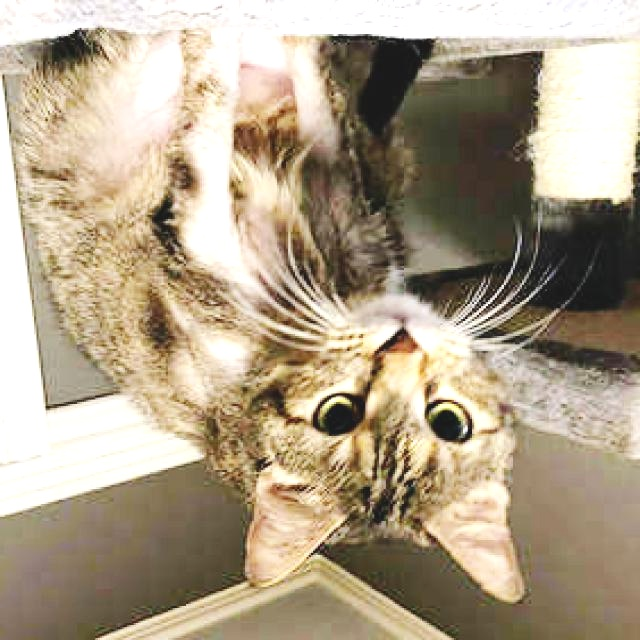hairloss: (193, 90, 235, 261), (124, 37, 170, 174), (284, 37, 340, 147)
